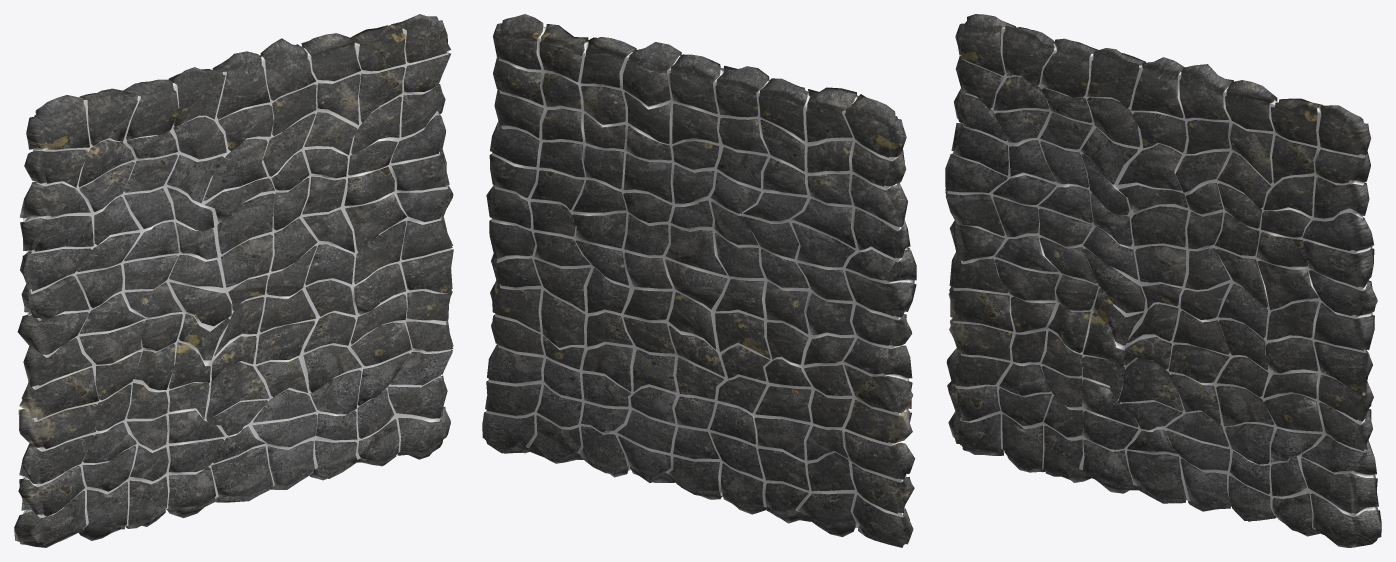
Rendered from StoneWall.fbx.
3 views of the same model, side by side, from view 1: azimuth 30°, elevation 25°; view 2: azimuth 150°, elevation 25°; view 3: azimuth 330°, elevation 25° (orthographic).
Parts seen in each view (by area): view 1: Cube; view 2: Cube; view 3: Cube.
Boxes of the visible parts, x1,y1,x2,y2 form: Cube: [14, 14, 453, 547]; Cube: [482, 14, 916, 547]; Cube: [945, 14, 1381, 547].
Bounding box in the file's own units: 300 × 300 × 25.
